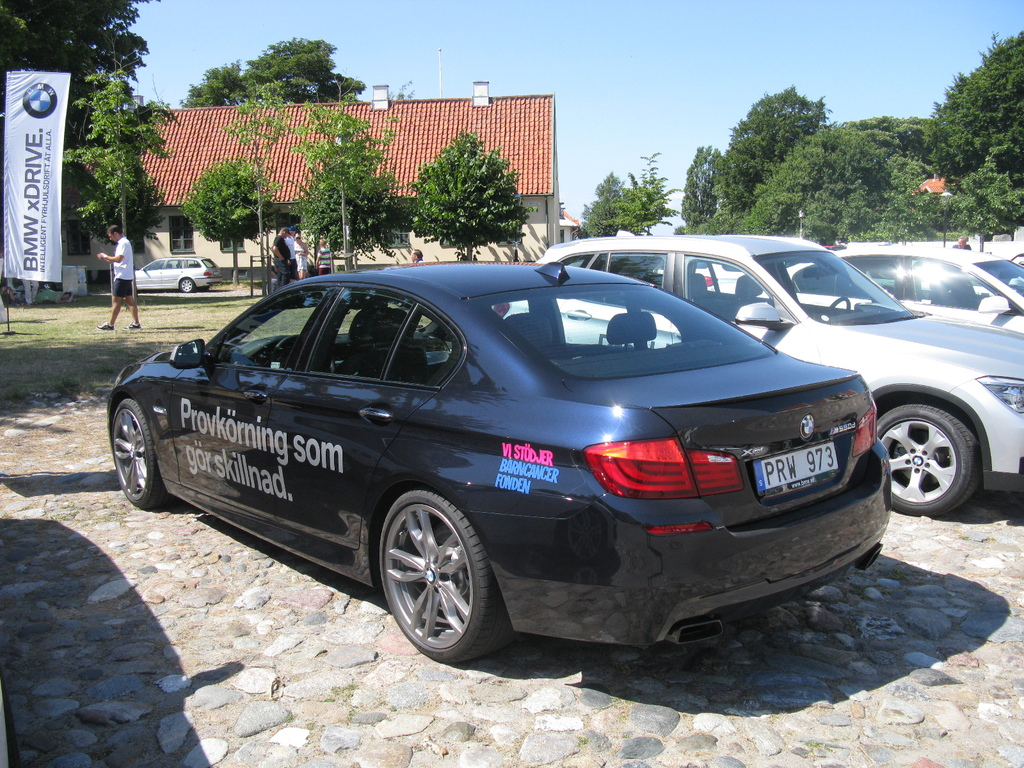license plate: (750, 462, 844, 493)
